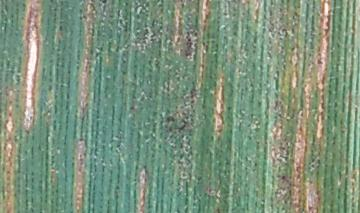tarspot: (98, 1, 111, 5)
